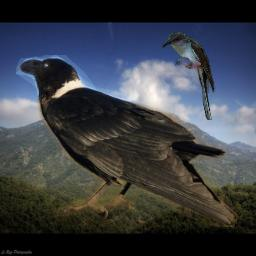Crow: (16, 52, 237, 227)
Cuckoo: (162, 32, 216, 120)
